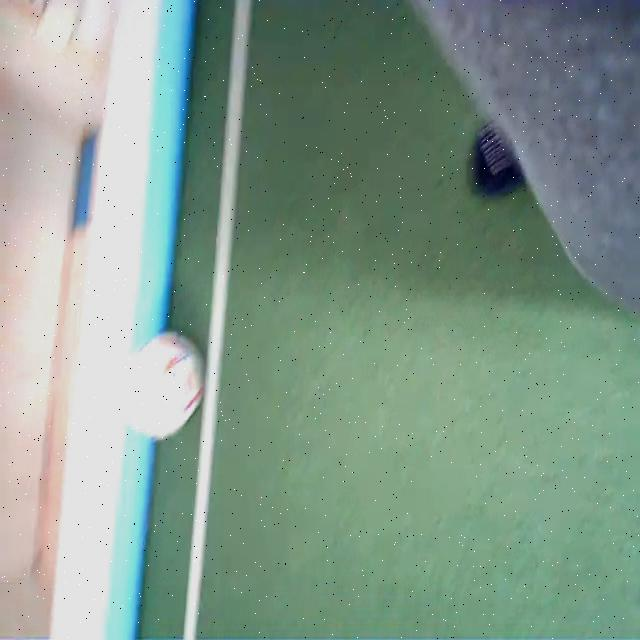ball: (121, 328, 205, 438)
